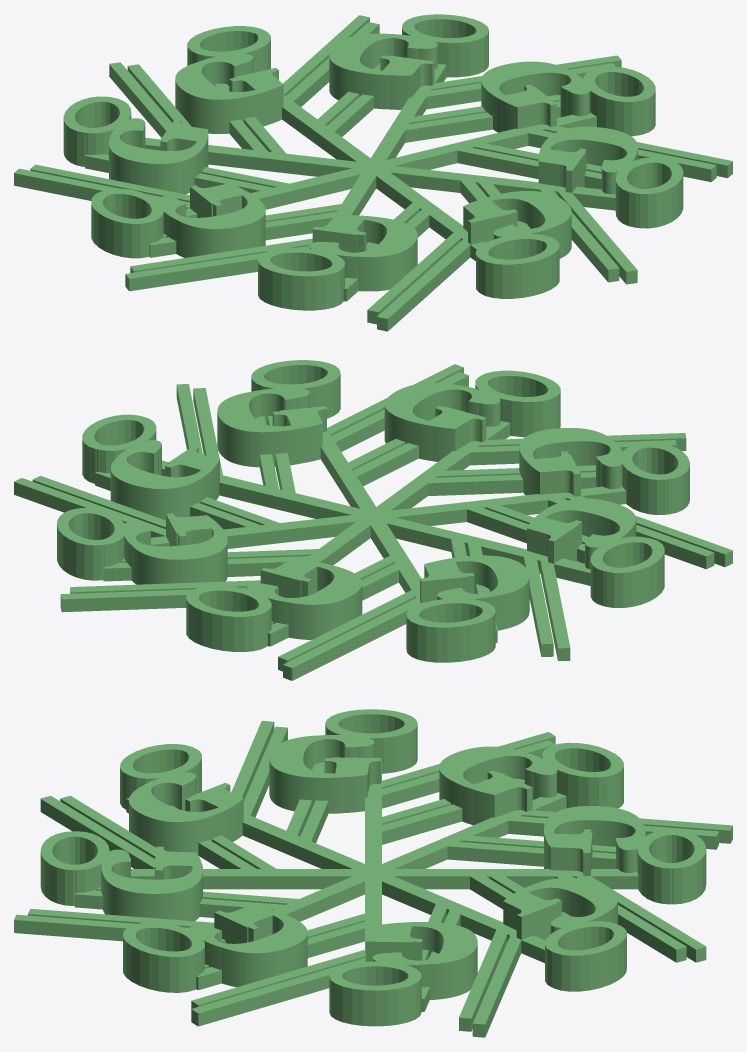
The model's file is wall_decoration.glb.
3 views of the same model, one above another, from view 1: azimuth 30°, elevation 25°; view 2: azimuth 150°, elevation 25°; view 3: azimuth 270°, elevation 25° (orthographic). The views are drawn at different scales.
Parts seen in each view (by area): view 1: Mesh_Mesh_head_geo.001_lambert2SG.001; view 2: Mesh_Mesh_head_geo.001_lambert2SG.001; view 3: Mesh_Mesh_head_geo.001_lambert2SG.001.
Boxes of the visible parts, x1,y1,x2,y2 form: Mesh_Mesh_head_geo.001_lambert2SG.001: (14,14,732,331); Mesh_Mesh_head_geo.001_lambert2SG.001: (14,360,732,680); Mesh_Mesh_head_geo.001_lambert2SG.001: (14,709,732,1037).
Size of the model in its own units: 181 by 10 by 181.
